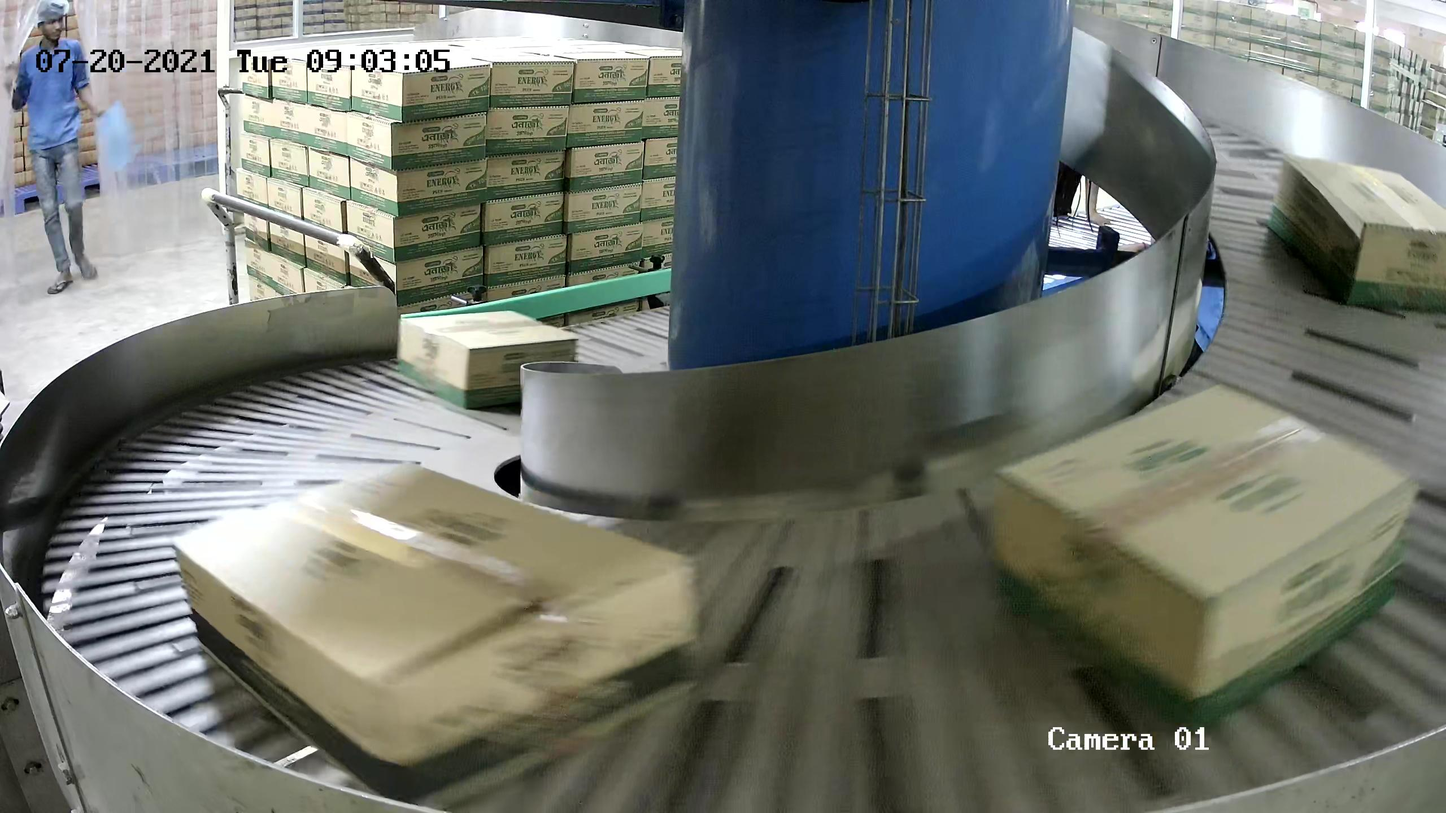Box: (169, 453, 703, 812), (986, 376, 1423, 734), (1265, 149, 1446, 318), (395, 309, 581, 413)
